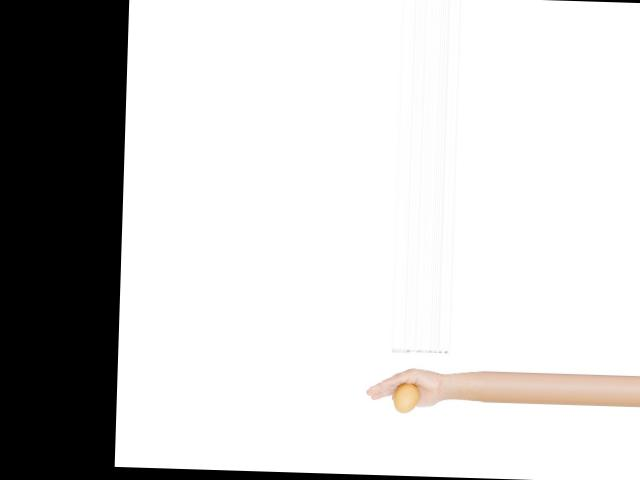egg: (392, 382, 419, 413)
